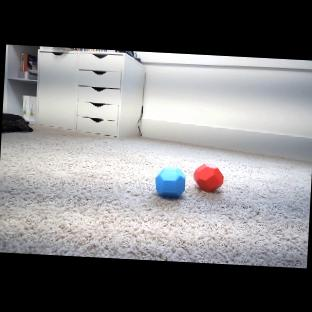V5_BLUE: (154, 164, 187, 199)
V5_RED: (193, 162, 225, 193)
